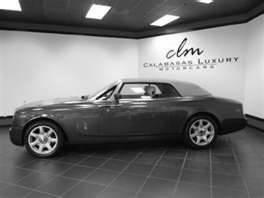car: (11, 78, 250, 159)
